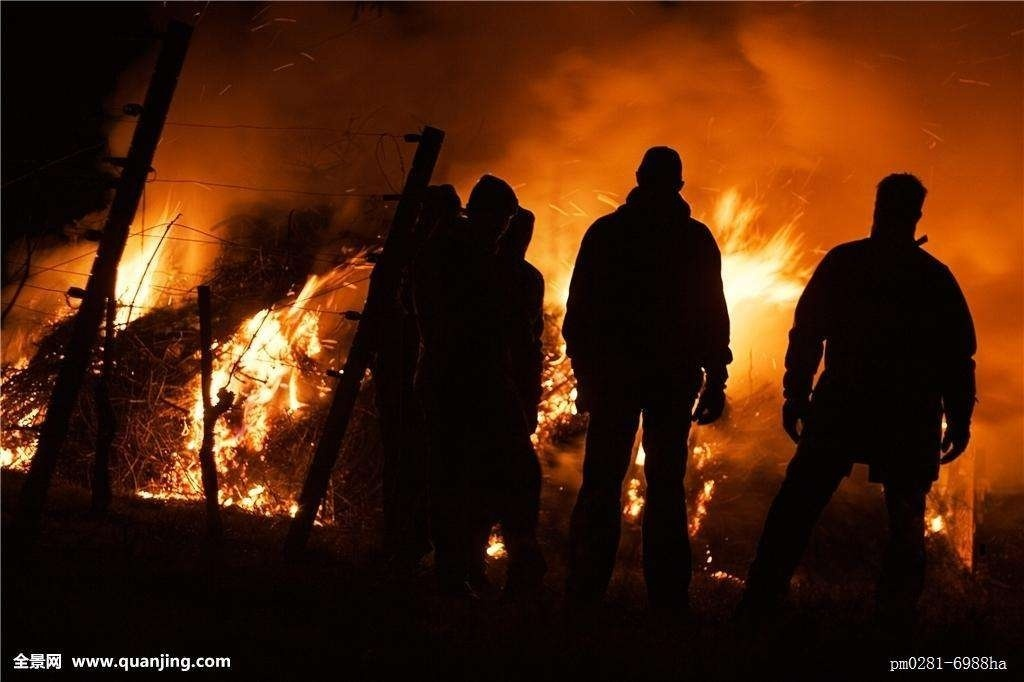fire: (0, 226, 361, 518), (704, 186, 806, 308), (532, 251, 577, 446), (618, 413, 647, 527)
